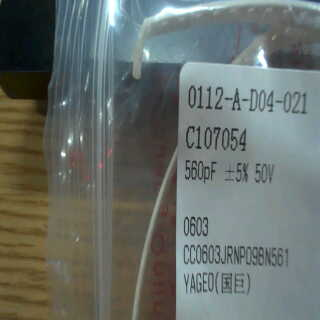560pF: (179, 159, 223, 185)
